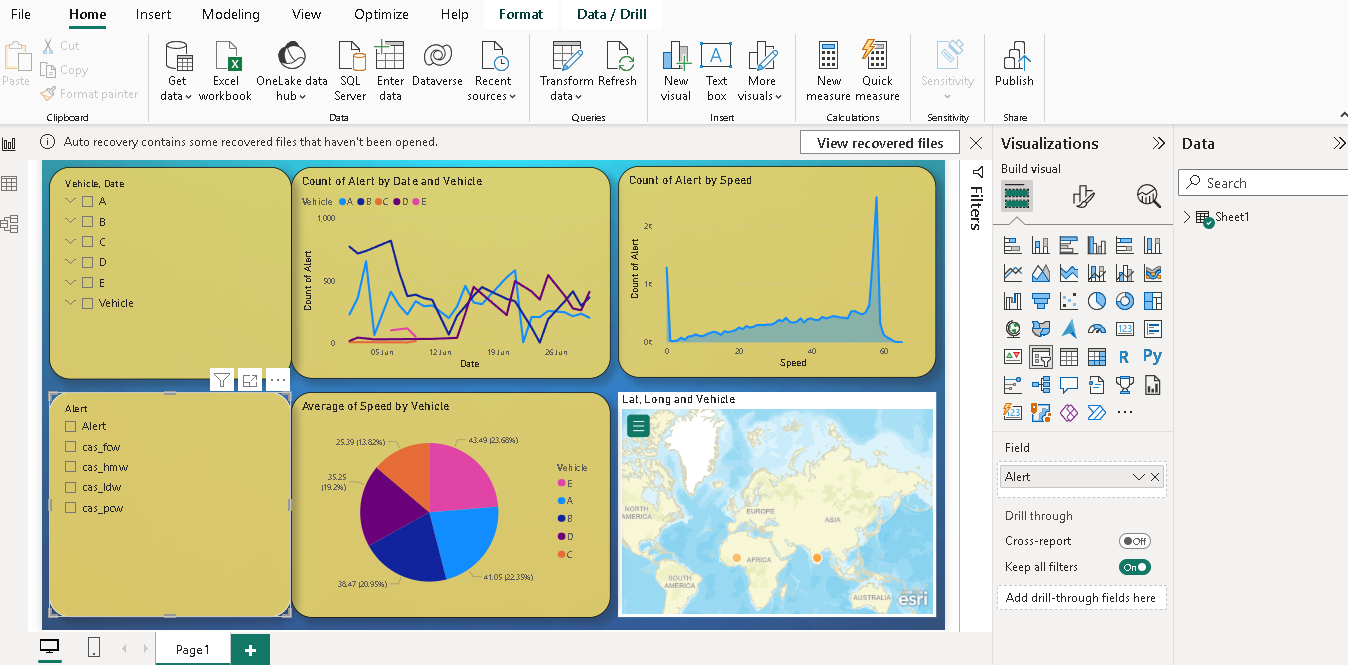

Layout of this report page (visuals, bound fields, positions):
{"tool":"powerbi","page":{"name":"Page 1","canvas":[1280,720],"ordinal":0},"visuals":[{"type":"esriVisual","fields":{"Latitude":["Sheet1.Lat"],"Longitude":["Sheet1.Long"]},"box":[816.2,380,451.2,318.8],"z":0},{"type":"areaChart","fields":{"Category":["Sheet1.Speed"],"Y":["CountNonNull(Sheet1.Alert)"]},"box":[816.2,60,451.2,300],"z":1000},{"type":"lineChart","fields":{"Y":["CountNonNull(Sheet1.Alert)"],"Category":["Sheet1.Date"],"Series":["Sheet1.Vehicle"]},"box":[353.4,60.3,453.5,300.3],"z":2000},{"type":"slicer","fields":{"Values":["Sheet1.Vehicle","Sheet1.Date"]},"box":[9.8,60.3,344,300.6],"z":3000},{"type":"pieChart","fields":{"Category":["Sheet1.Vehicle"],"Y":["Avg(Sheet1.Speed)"]},"box":[353.4,379.9,453.5,319.6],"z":4000},{"type":"slicer","fields":{"Values":["Sheet1.Alert"]},"box":[9.8,379.5,343.2,319.2],"z":5000}]}

Visuals, with their boxes on the page's 1280x720 design canvas (x1, y1, x2, y2). These are canvas units, not pixel positions in the 1348x665 screenshot, which may show the page scaled, cropped or inside an application window:
esriVisual - Sheet1.Lat x Sheet1.Long: [x1=816, y1=380, x2=1267, y2=699]
areaChart - Sheet1.Speed x CountNonNull(Sheet1.Alert): [x1=816, y1=60, x2=1267, y2=360]
lineChart - CountNonNull(Sheet1.Alert) x Sheet1.Date: [x1=353, y1=60, x2=807, y2=361]
slicer - Sheet1.Vehicle x Sheet1.Date: [x1=10, y1=60, x2=354, y2=361]
pieChart - Sheet1.Vehicle x Avg(Sheet1.Speed): [x1=353, y1=380, x2=807, y2=700]
slicer - Sheet1.Alert: [x1=10, y1=380, x2=353, y2=699]
